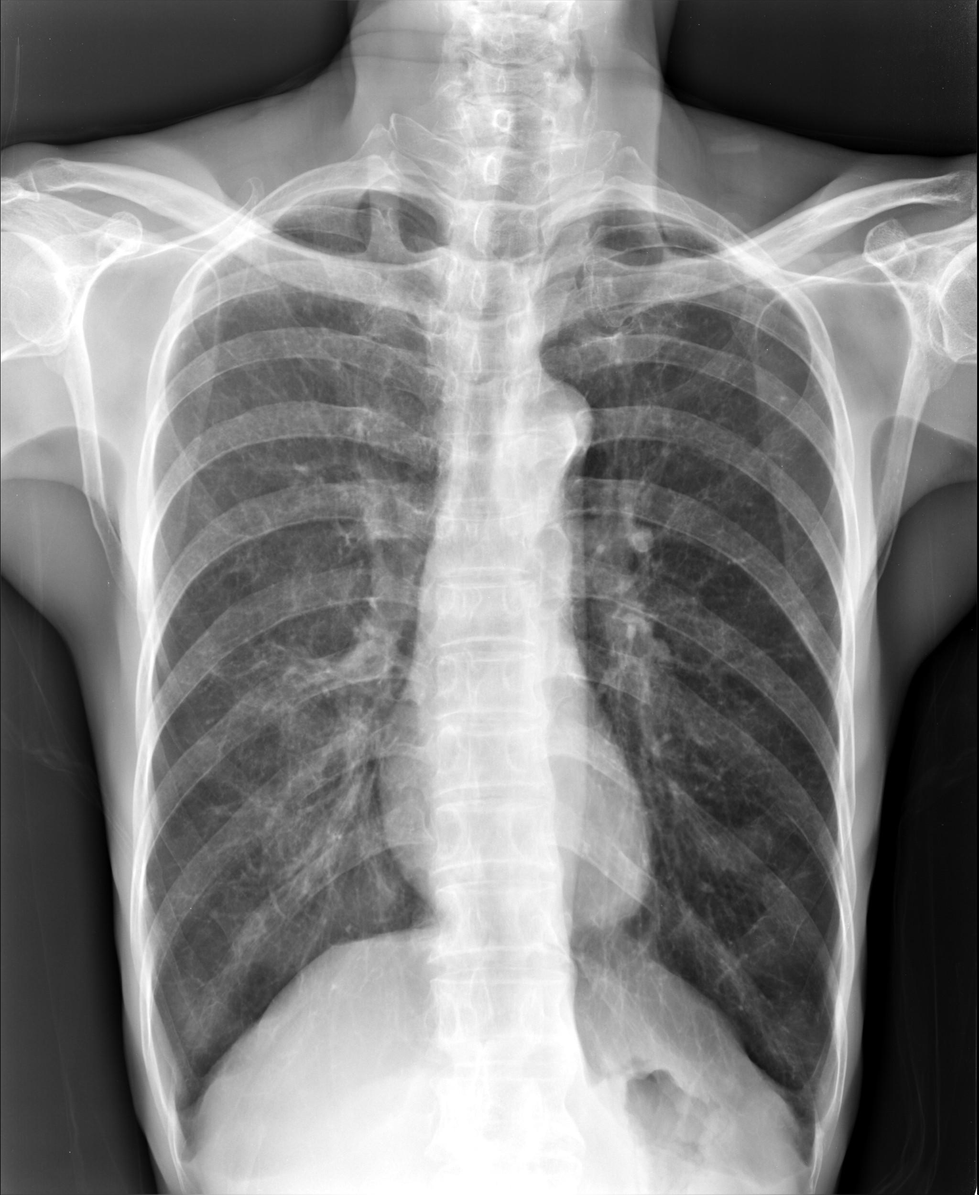Pleural thickening: (156, 1071, 209, 1176), (779, 1071, 837, 1161)
